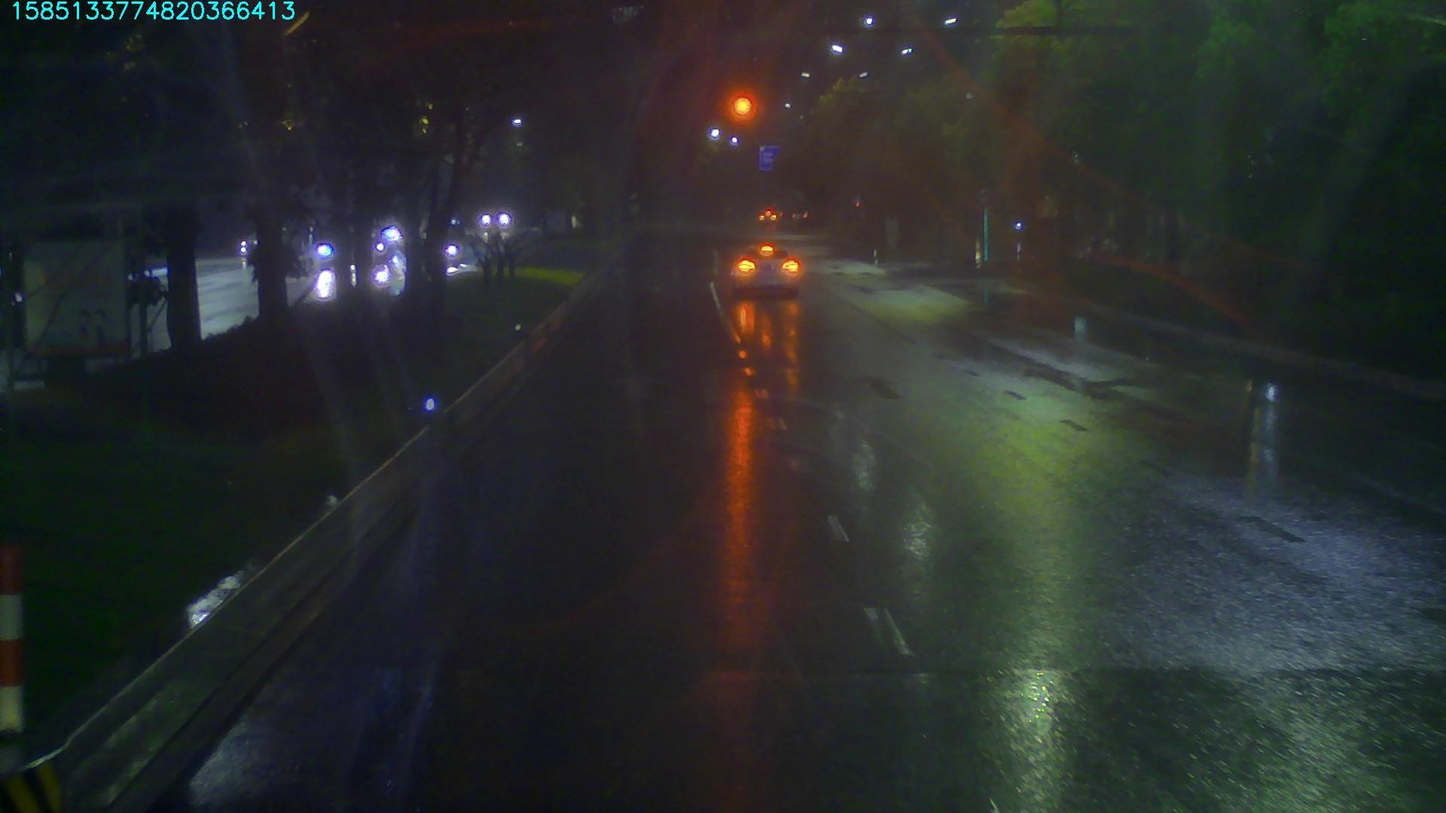red: (728, 90, 759, 120)
